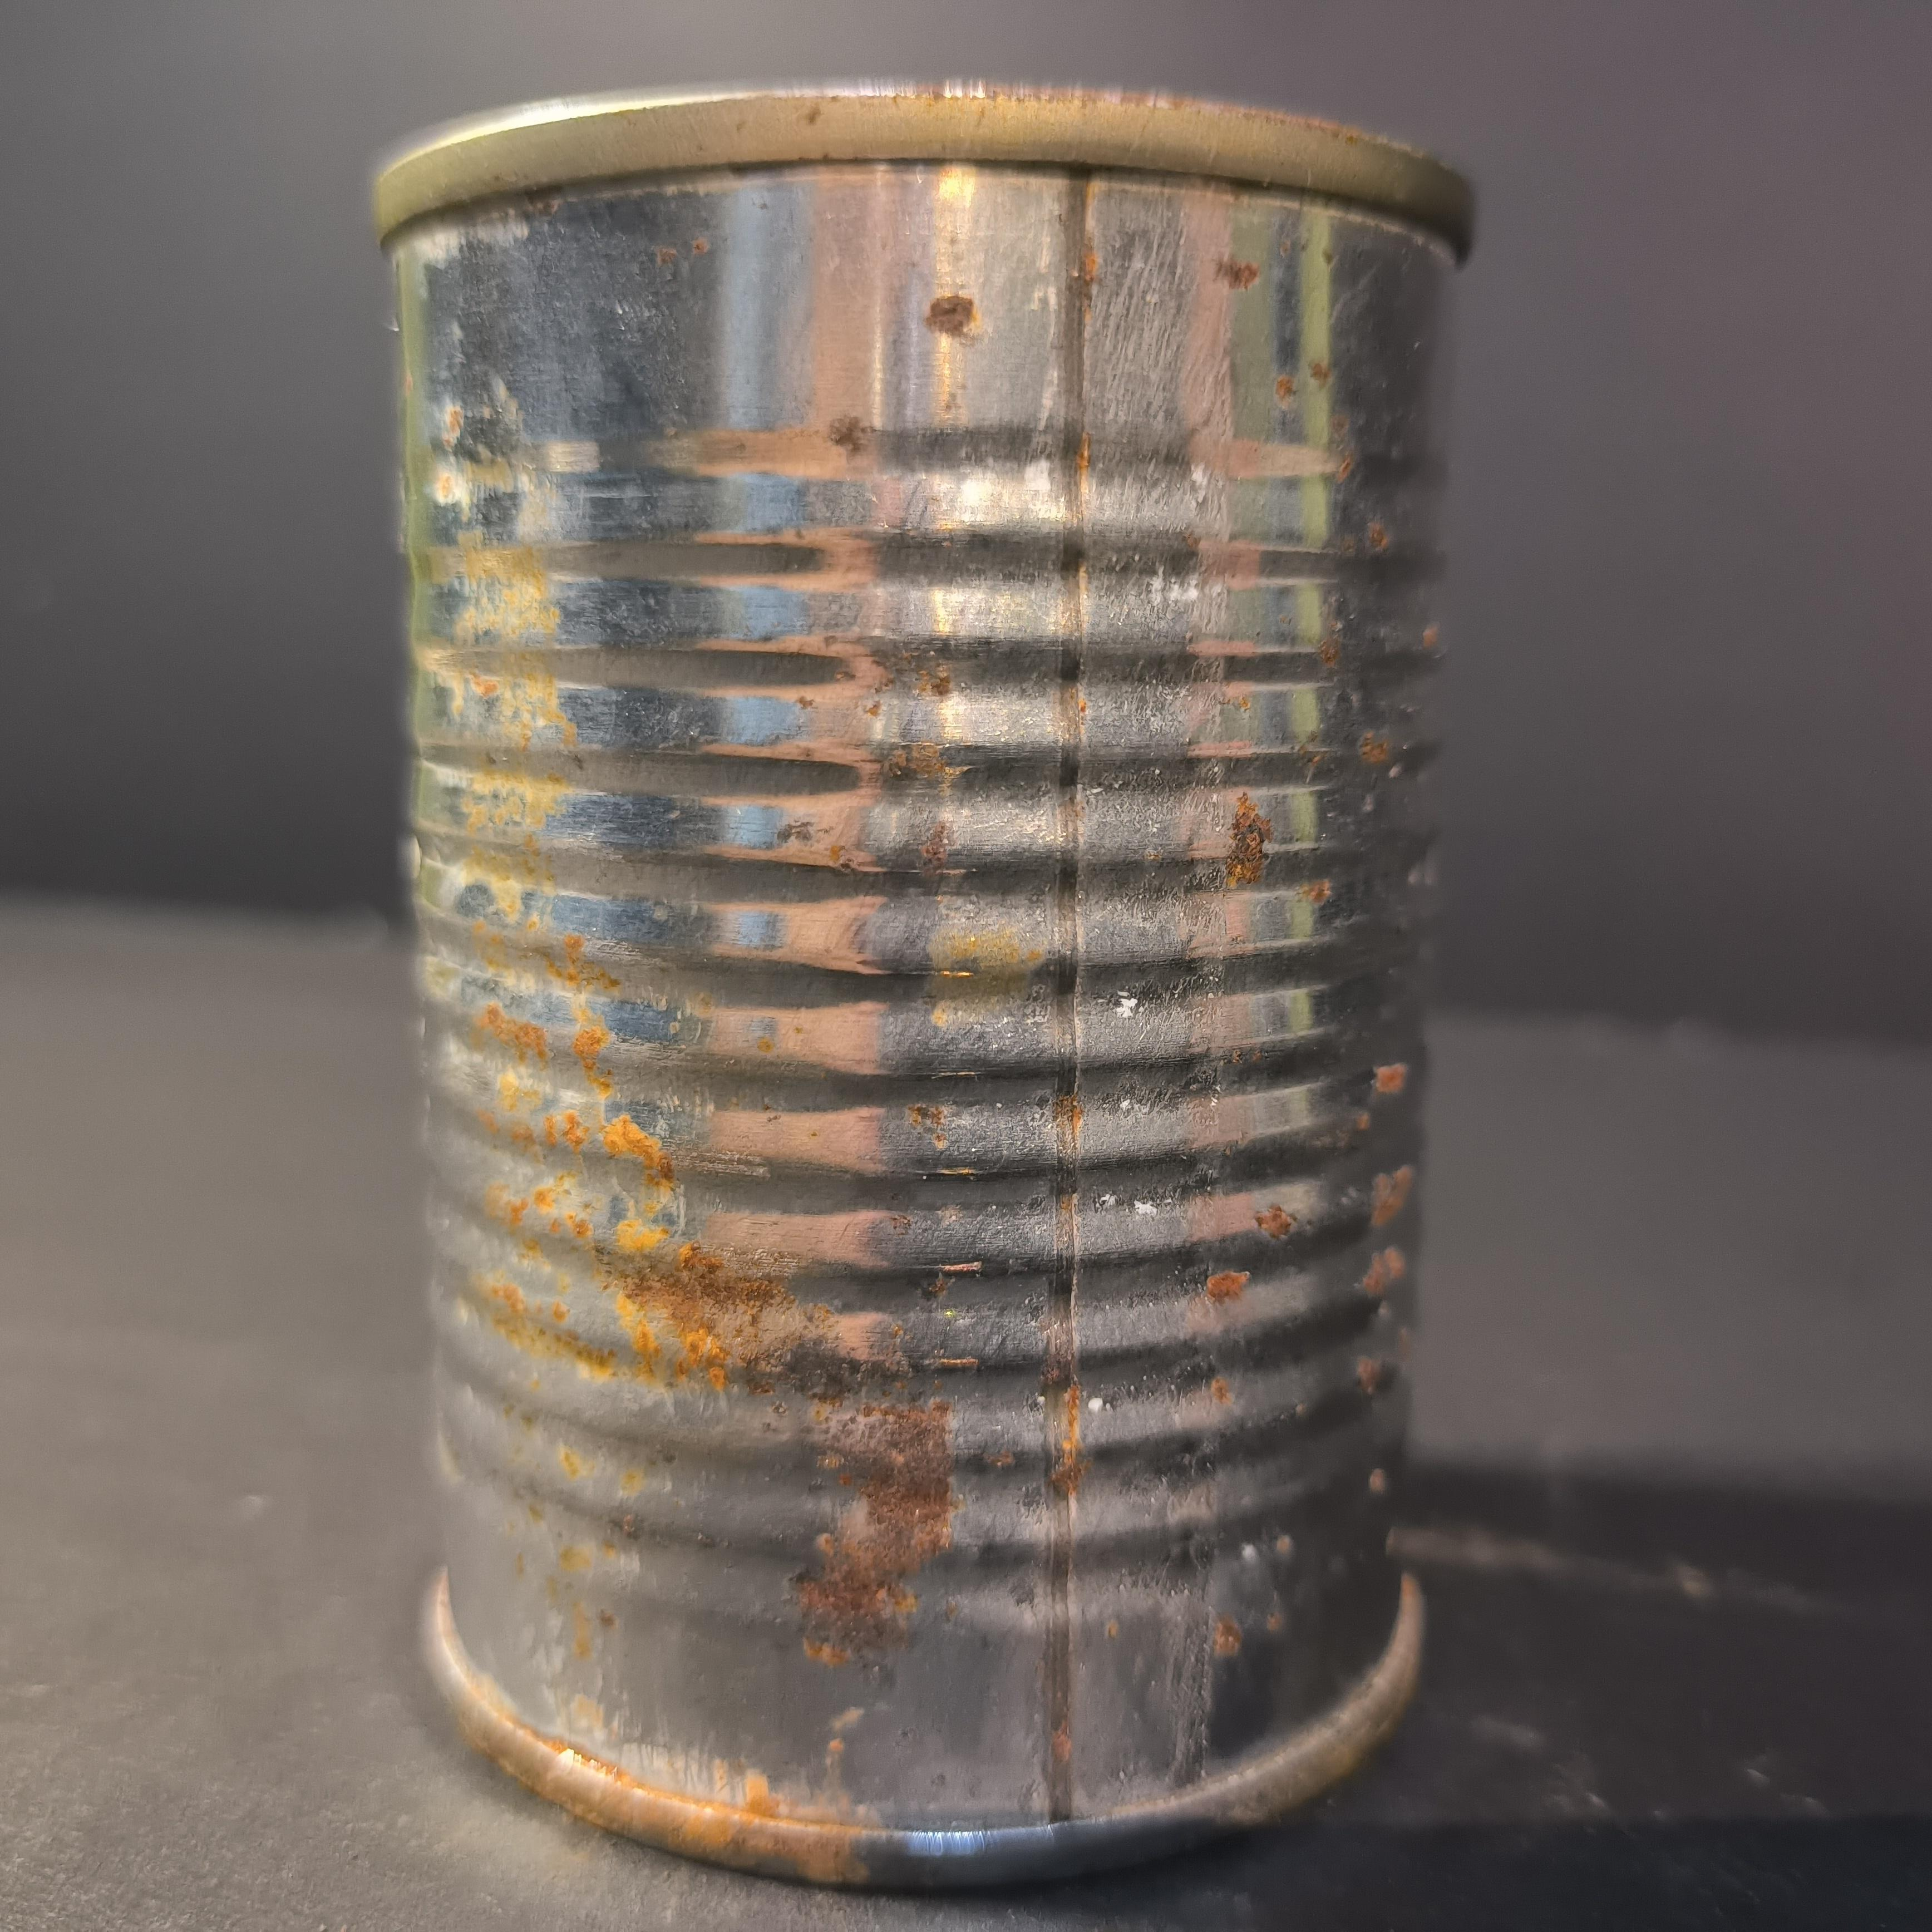Rusted: (341, 53, 1520, 1909)
